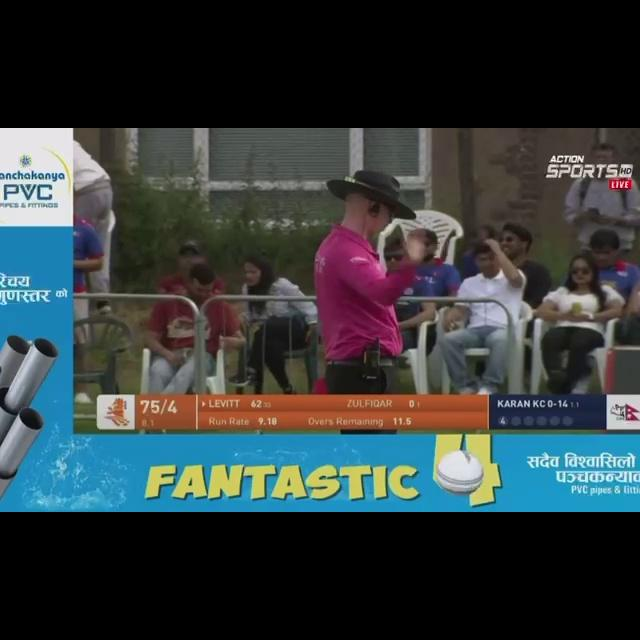umpire: (302, 159, 488, 388)
